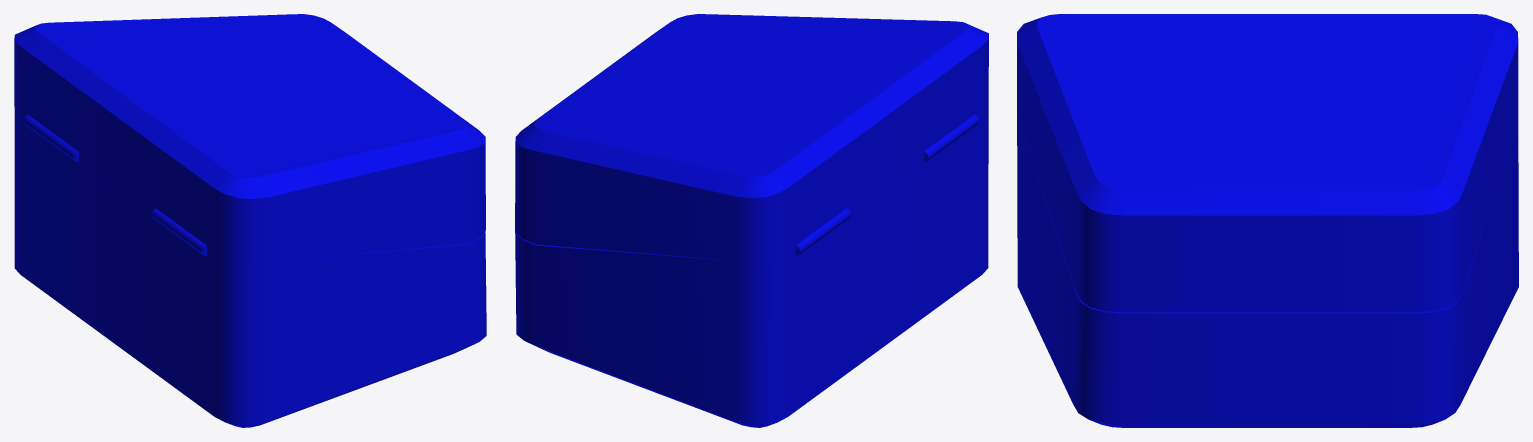
File: Medbox_Closed.FBX
The picture shows the model from 3 angles, left to right: view 1: azimuth 30°, elevation 25°; view 2: azimuth 150°, elevation 25°; view 3: azimuth 270°, elevation 25°; orthographic projection. The views are drawn at different scales.
Visible parts, largest first — view 1: Medbox_Low_Closed; view 2: Medbox_Low_Closed; view 3: Medbox_Low_Closed.
Boxes of the visible parts, bbox=[...] form: Medbox_Low_Closed: bbox=[14, 14, 486, 427]; Medbox_Low_Closed: bbox=[515, 14, 988, 427]; Medbox_Low_Closed: bbox=[1017, 14, 1518, 427].
Bounding box in the file's own units: 5.2 × 4.15 × 6.89.
